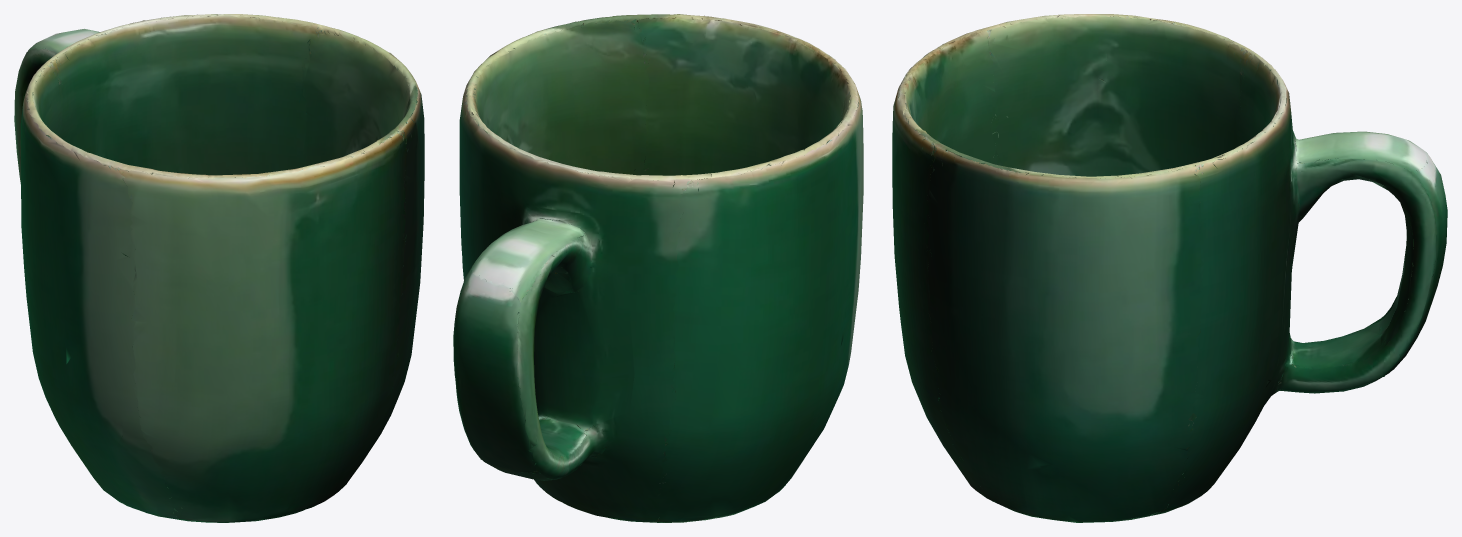
Rendered from greenmug.glb.
3 views of the same model, side by side, from view 1: azimuth 30°, elevation 25°; view 2: azimuth 150°, elevation 25°; view 3: azimuth 270°, elevation 25° (orthographic).
Parts seen in each view (by area): view 1: Mesh_0; view 2: Mesh_0; view 3: Mesh_0.
Boxes of the visible parts, x1,y1,x2,y2 form: Mesh_0: (14,14,424,522); Mesh_0: (453,14,863,522); Mesh_0: (892,14,1447,522).
Bounding box in the file's own units: 0.1366 × 0.1401 × 0.1876.
1 material, 1 textured.
